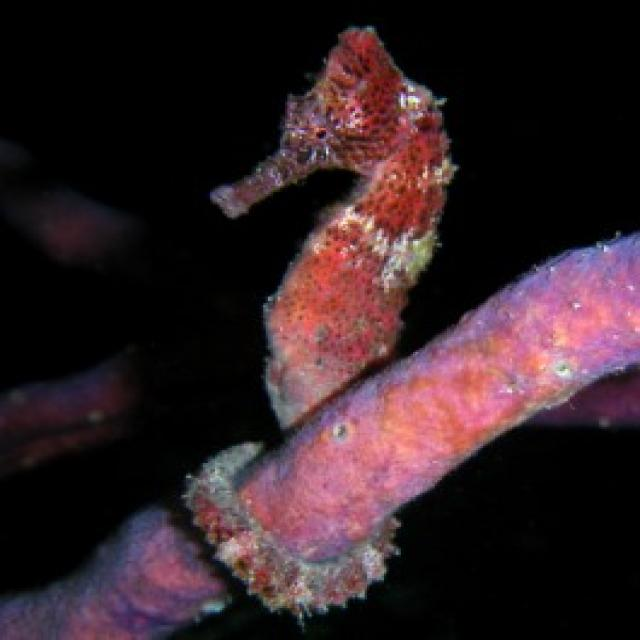Seahorse: (213, 23, 457, 375)
